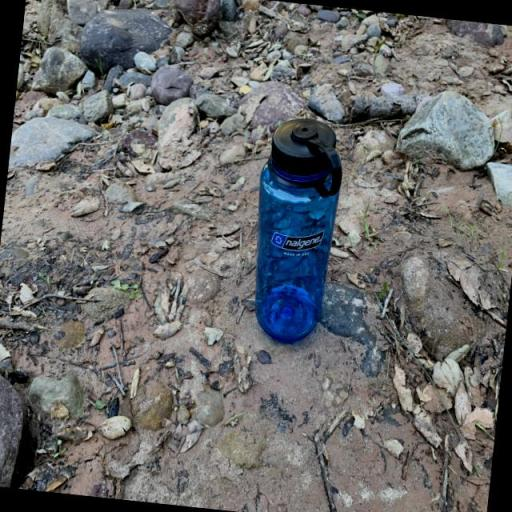bottle: (243, 114, 347, 346)
